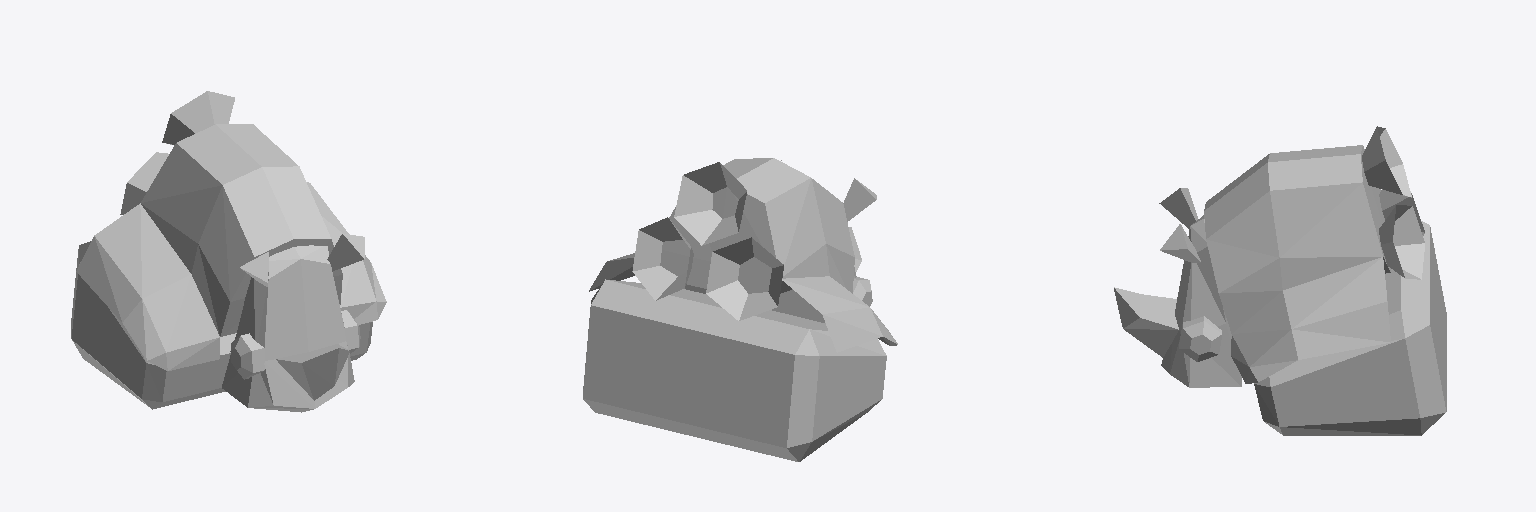
File: Rhinotank.obj
3 views of the same model, side by side, from view 1: azimuth 30°, elevation 25°; view 2: azimuth 150°, elevation 25°; view 3: azimuth 270°, elevation 25° (orthographic).
Visible parts, largest first — view 1: Rhinotank; view 2: Rhinotank; view 3: Rhinotank.
Boxes of the visible parts, x1,y1,x2,y2 form: Rhinotank: [71, 91, 386, 412]; Rhinotank: [583, 158, 897, 461]; Rhinotank: [1114, 126, 1446, 435].
Bounding box in the file's own units: 16.09 × 16.04 × 18.67.